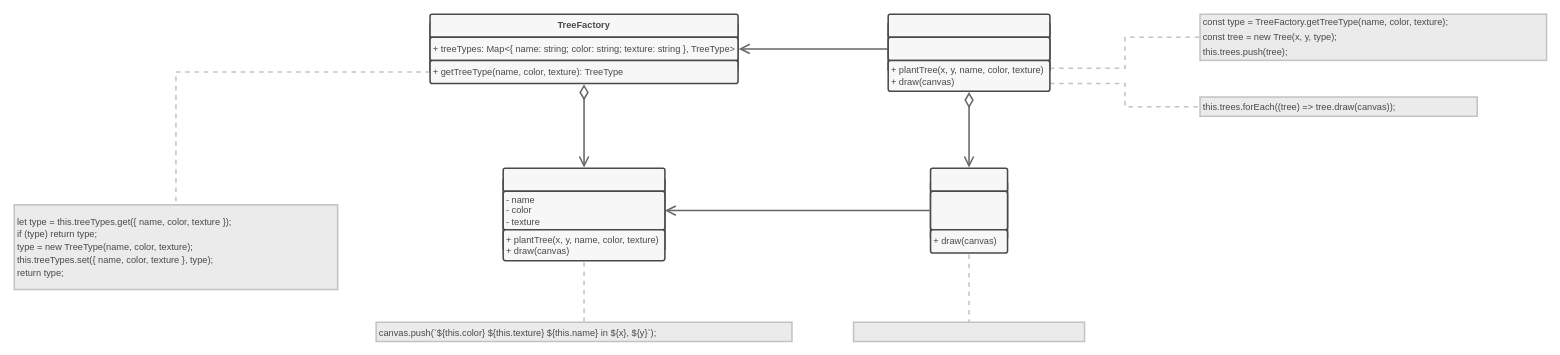
The diagram is 1560 pixels wide and 355 high, and some of its shapes have lost their labels. The box of each missing label's shape, as (x1, y1, x2, y2) in pixels:
- trees: Tree[]: (887, 36, 1050, 61)
- x: number - y: number - type: TreeType: (929, 190, 1008, 230)
Forest: (887, 13, 1050, 38)
this.type.draw(canvas, this.x, this.y);: (852, 321, 1085, 342)
Tree: (929, 167, 1008, 192)
TreeType: (502, 167, 665, 192)
